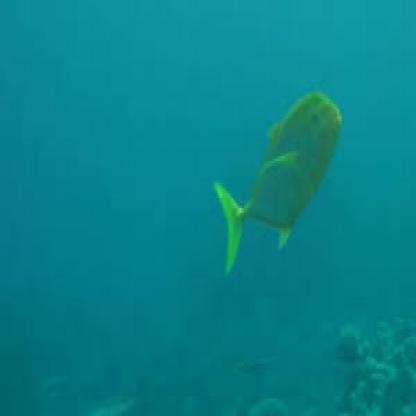jack: (209, 75, 346, 281)
